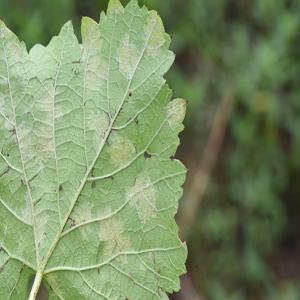Folha: (0, 0, 189, 299)
Fungo: (24, 82, 61, 152), (82, 33, 112, 101), (96, 215, 132, 265), (66, 178, 94, 242), (18, 192, 49, 245), (3, 79, 22, 143), (142, 10, 164, 64), (162, 94, 187, 131), (117, 35, 136, 82), (109, 137, 136, 169), (83, 110, 110, 134), (151, 251, 164, 298), (169, 154, 189, 172), (68, 216, 75, 227), (1, 148, 9, 157), (157, 286, 163, 298), (144, 150, 151, 160), (151, 252, 156, 265), (72, 58, 82, 64), (133, 116, 138, 127), (44, 76, 55, 81), (58, 183, 64, 192), (90, 167, 95, 177), (118, 107, 125, 114), (169, 153, 175, 160), (105, 139, 111, 146), (91, 180, 96, 188), (132, 176, 136, 186), (59, 198, 64, 206), (21, 178, 26, 186), (76, 194, 81, 202), (74, 69, 79, 76), (126, 116, 131, 123), (128, 269, 132, 277), (157, 267, 161, 274), (128, 91, 132, 97), (96, 267, 100, 273), (110, 175, 114, 180)
